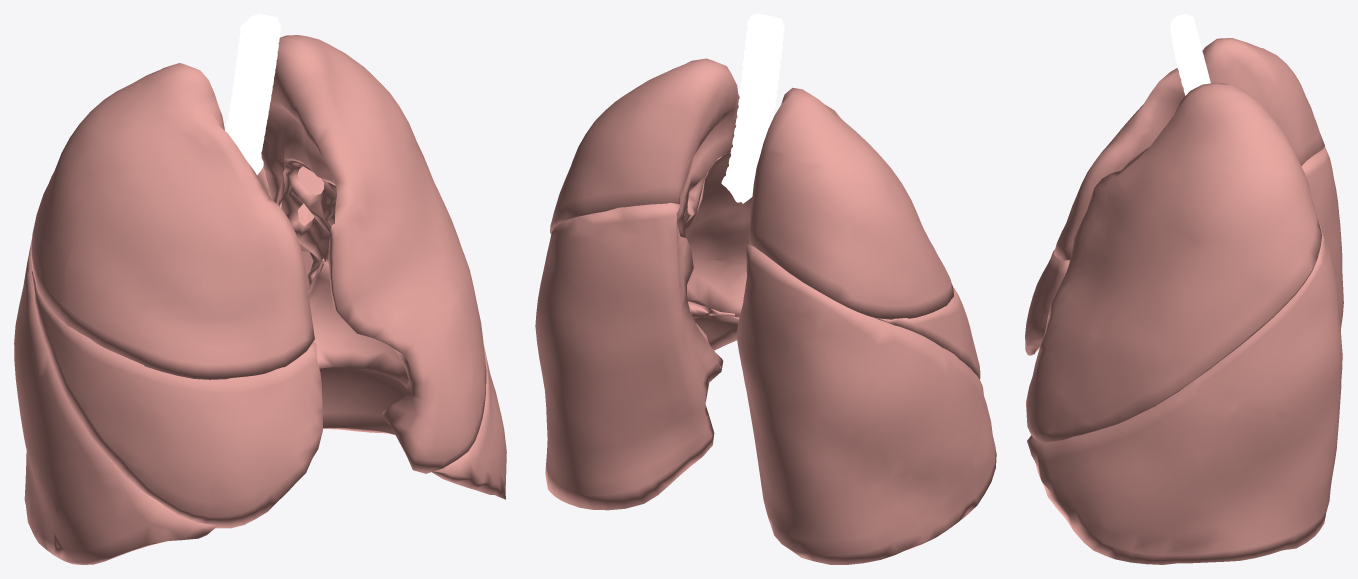
The model's file is lung_anatomy.glb.
The picture shows the model from 3 angles, left to right: view 1: azimuth 30°, elevation 25°; view 2: azimuth 150°, elevation 25°; view 3: azimuth 270°, elevation 25°; orthographic projection. The views are drawn at different scales.
Visible parts, largest first — view 1: Superior lobe of right lung, Superior lobe of left lung, Middle lobe of right lung, Inferior lobe of right lung, Inferior lobe of left lung, Trachea; view 2: Inferior lobe of right lung, Inferior lobe of left lung, Superior lobe of right lung, Superior lobe of left lung, Trachea, Middle lobe of right lung; view 3: Superior lobe of left lung, Inferior lobe of left lung, Superior lobe of right lung, Inferior lobe of right lung, Trachea, Middle lobe of right lung.
Part boxes in pixels (left/top/right/bottom): Superior lobe of right lung: left=31, top=63, right=314, bottom=379; Superior lobe of left lung: left=261, top=35, right=486, bottom=473; Middle lobe of right lung: left=31, top=271, right=322, bottom=528; Inferior lobe of right lung: left=14, top=239, right=217, bottom=564; Inferior lobe of left lung: left=257, top=166, right=506, bottom=499; Trachea: left=225, top=14, right=280, bottom=175; Inferior lobe of right lung: left=736, top=243, right=996, bottom=564; Inferior lobe of left lung: left=535, top=202, right=739, bottom=510; Superior lobe of right lung: left=748, top=87, right=953, bottom=319; Superior lobe of left lung: left=550, top=58, right=752, bottom=317; Trachea: left=721, top=14, right=784, bottom=203; Middle lobe of right lung: left=876, top=287, right=980, bottom=379; Superior lobe of left lung: left=1026, top=82, right=1322, bottom=442; Inferior lobe of left lung: left=1027, top=223, right=1342, bottom=564; Superior lobe of right lung: left=1054, top=38, right=1324, bottom=260; Inferior lobe of right lung: left=1301, top=146, right=1343, bottom=330; Trachea: left=1170, top=14, right=1210, bottom=95; Middle lobe of right lung: left=1025, top=249, right=1069, bottom=355.
Bounding box in the file's own units: 0.2618 × 0.2945 × 0.1866.
